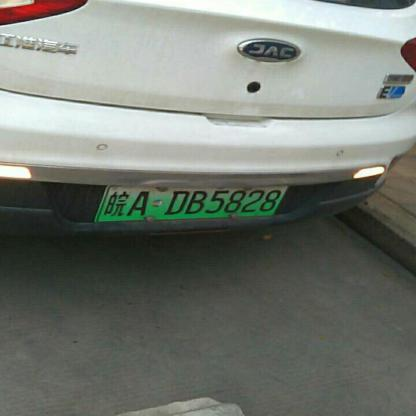lp: (95, 184, 288, 221)
